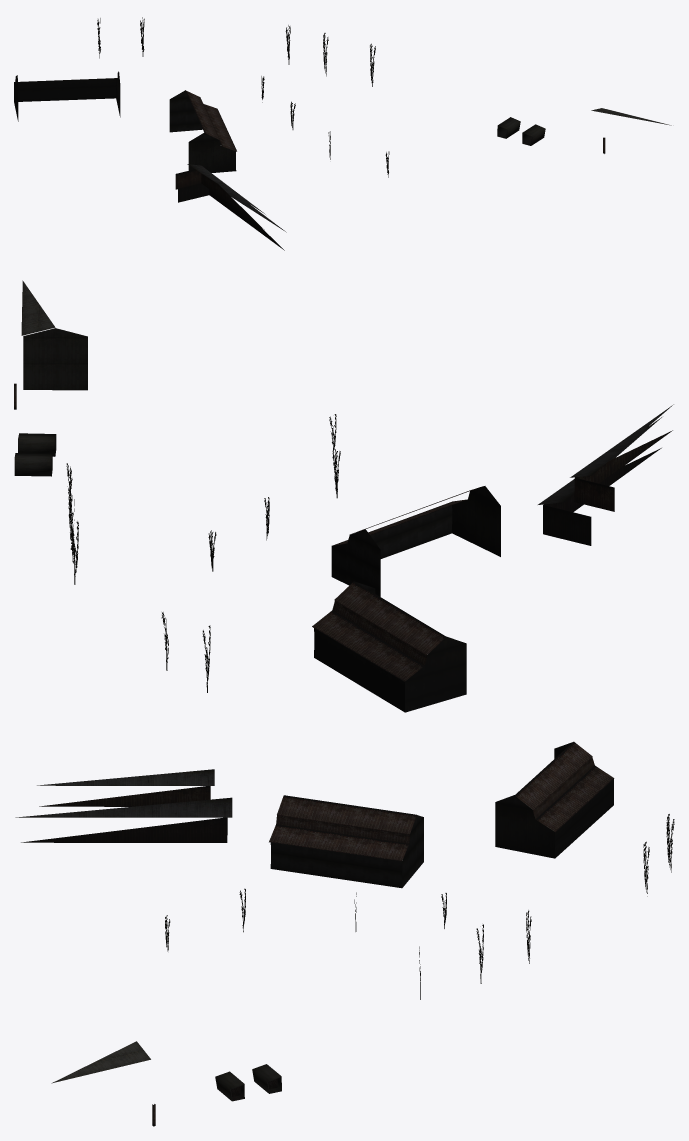
The model's file is cell_13_-13.gltf.
3 views of the same model, one above another, from view 1: azimuth 30°, elevation 25°; view 2: azimuth 150°, elevation 25°; view 3: azimuth 270°, elevation 25° (orthographic). The views are drawn at different scales.
Parts seen in each view (by area): view 1: cell_13_-13; view 2: cell_13_-13; view 3: cell_13_-13.
Boxes of the visible parts, x1,y1,x2,y2 form: cell_13_-13: (14, 17, 671, 250); cell_13_-13: (14, 280, 673, 712); cell_13_-13: (15, 741, 674, 1126).
Bounding box in the file's own units: 260 × 40.27 × 232.
6 materials, 6 textured.
